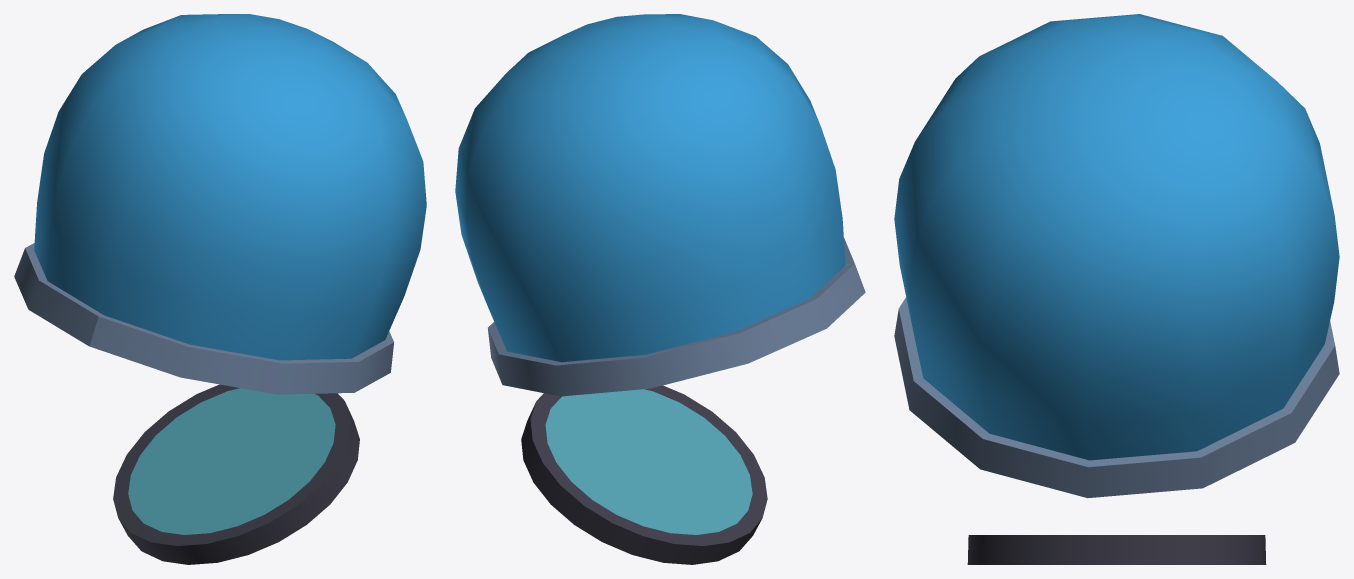
The model's file is S5_BattleShip_Aisle_01_Lod3.fbx.
The picture shows the model from 3 angles, left to right: view 1: azimuth 30°, elevation 25°; view 2: azimuth 150°, elevation 25°; view 3: azimuth 270°, elevation 25°; orthographic projection. The views are drawn at different scales.
Visible parts, largest first — view 1: S5_BattleShip_Aisle_01_Lod3; view 2: S5_BattleShip_Aisle_01_Lod3; view 3: S5_BattleShip_Aisle_01_Lod3.
Part boxes in pixels (<box>): S5_BattleShip_Aisle_01_Lod3: <box>14,14,426,564</box>; S5_BattleShip_Aisle_01_Lod3: <box>455,14,865,564</box>; S5_BattleShip_Aisle_01_Lod3: <box>894,14,1339,564</box>.
Size of the model in its own units: 1546 by 2047 by 1438.
